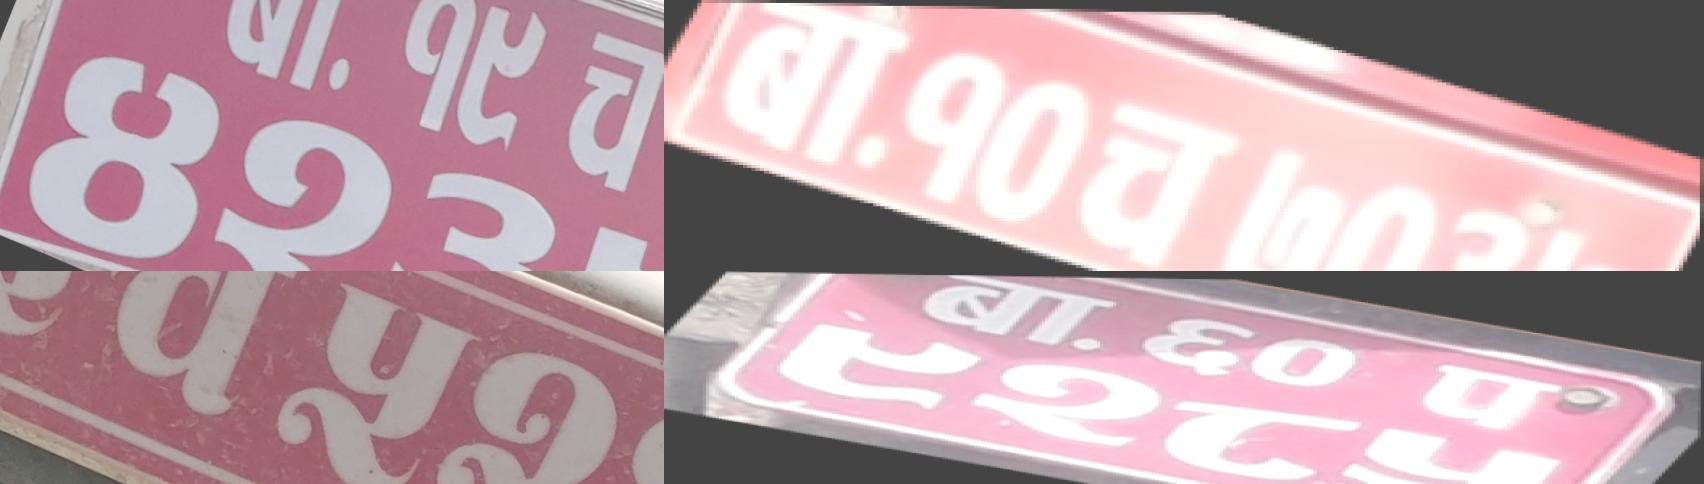0: (939, 57, 1133, 247), (1292, 157, 1473, 271), (891, 273, 1120, 350)
1: (854, 32, 1036, 215), (953, 354, 1182, 447), (367, 0, 491, 137)
2: (413, 305, 650, 484), (196, 92, 428, 271), (564, 367, 664, 484)
3: (364, 146, 583, 271), (1388, 186, 1560, 271), (0, 271, 133, 356)
4: (3, 21, 253, 271), (1317, 420, 1571, 484), (1123, 310, 1274, 378)
5: (242, 271, 490, 484)
7: (1188, 134, 1382, 271), (1479, 208, 1672, 271)
8: (1390, 358, 1563, 432)
9: (437, 0, 582, 171), (534, 199, 664, 271)
ba: (670, 0, 930, 185), (193, 0, 400, 113)
cha: (1034, 86, 1266, 271), (59, 271, 311, 430), (536, 14, 664, 207), (1226, 326, 1376, 395)
lu: (757, 318, 992, 411)
pa: (1128, 389, 1364, 484)
